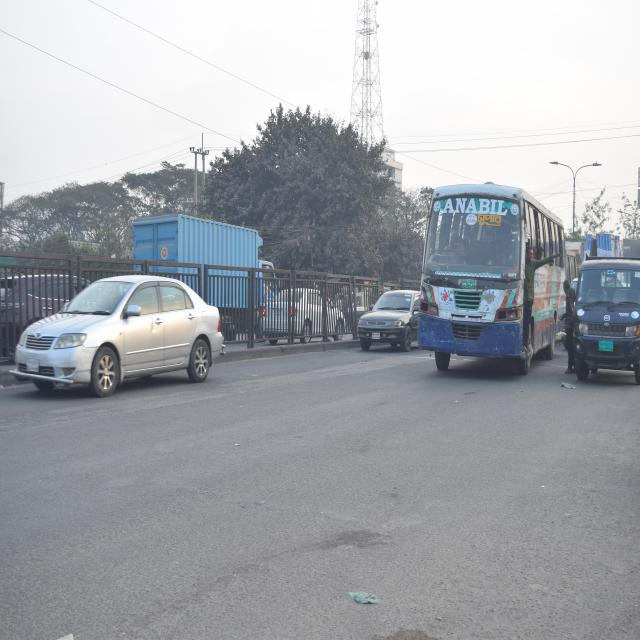bus: (415, 172, 567, 375)
car: (14, 262, 230, 402), (355, 277, 417, 362)
microbus: (568, 250, 640, 385)
